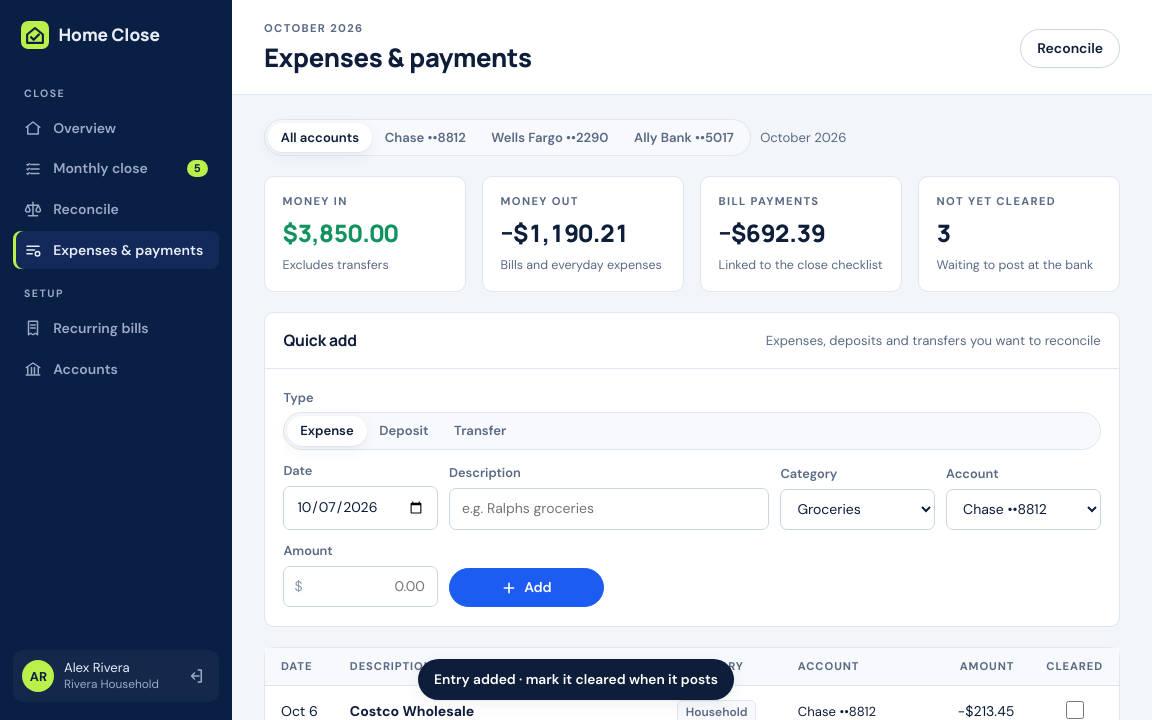
Scenario: expenses & payments › shows validation errors
The width and height of the screenshot is (1152, 720).
Click the button "Add" at (526, 588), box [449,568,604,607]
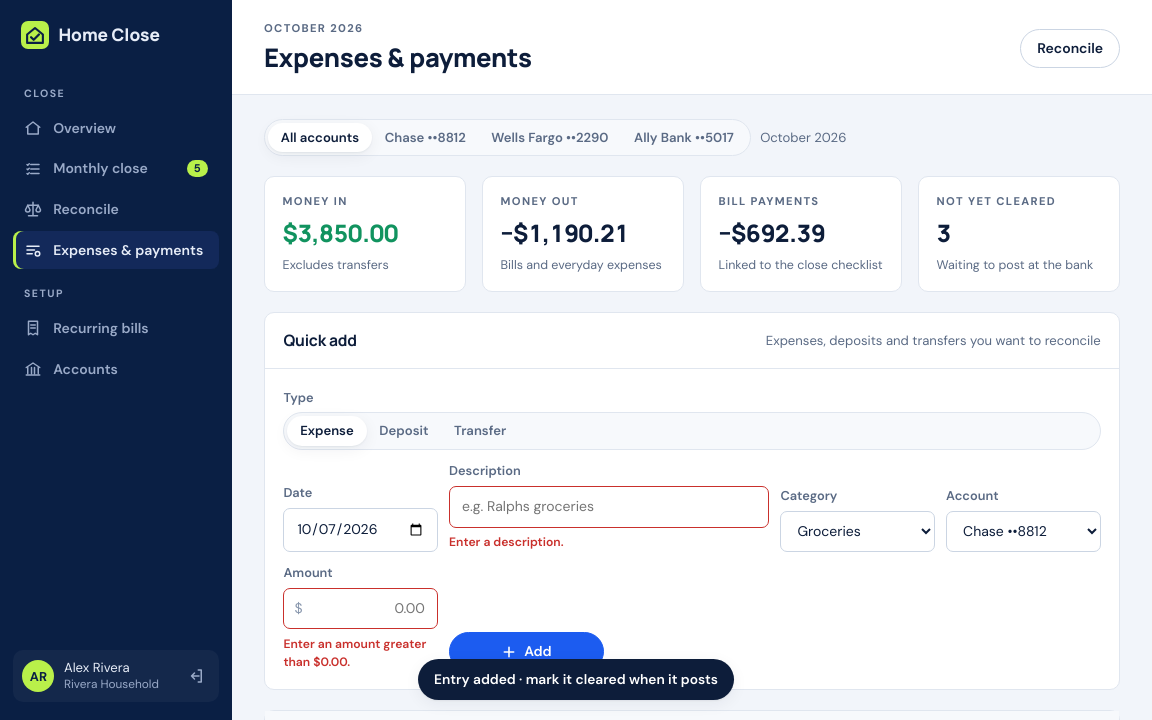
Now the text "Enter a description." is shown, box [449,534,564,550]
Now the text "Enter an amount greater than $0.00." is shown, box [283,635,438,671]
